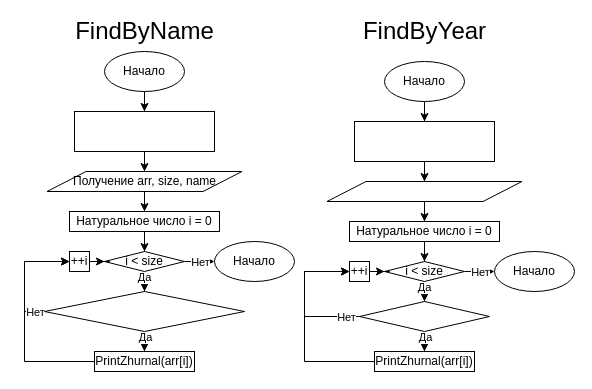
The diagram is 592 pixels wide and 389 high, and some of its shapes have lost their labels. Here are the shapes that lost their labels. From the top down, the box of each, then its label:
(74, 110, 214, 152): Массив Zhurnal arr, натуральное число size, строка name
(354, 120, 494, 162): Массив Zhurnal arr, натуральное число size, натуральное число year
(326, 180, 522, 202): Получение arr, size, year
(44, 290, 244, 332): strcmp(arr[i]->name, name) == 0
(358, 300, 490, 332): arr[i]->year == year
